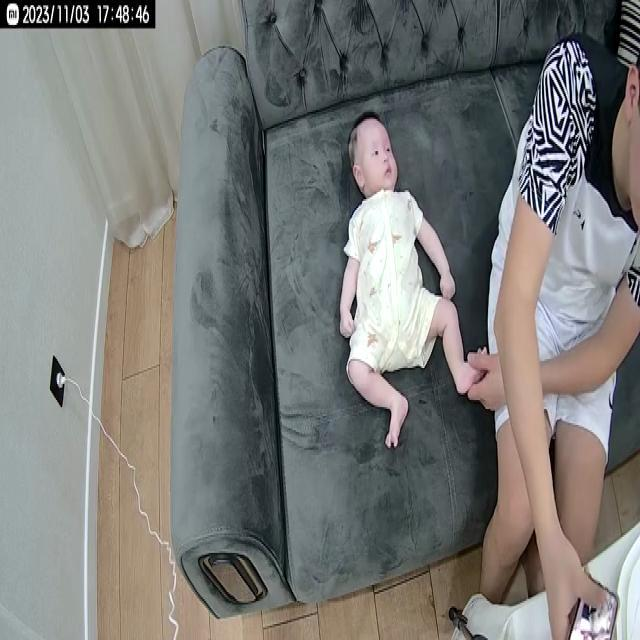baby: (336, 110, 489, 450)
